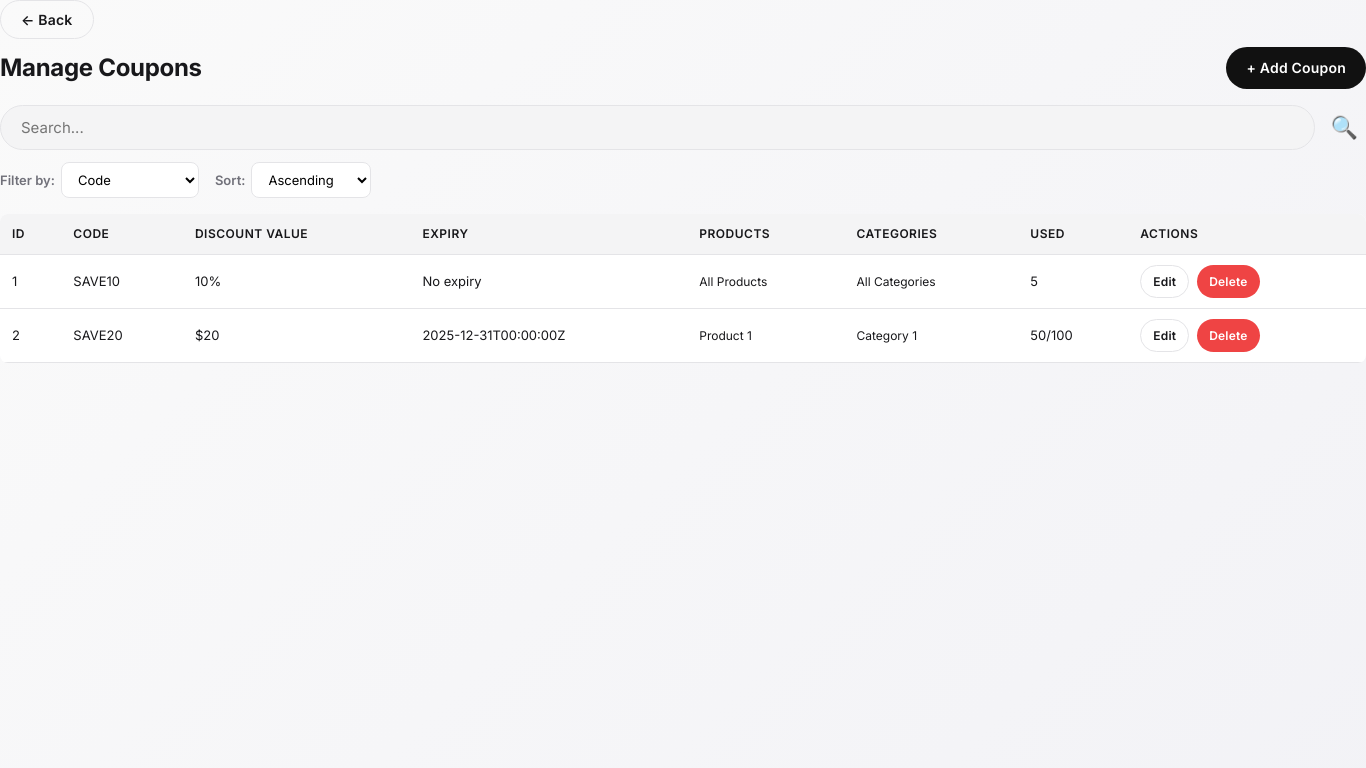
Test case: AdminCoupons › Delete › should disable button while deleting
Click the button "Delete" in the row of "SAVE10": (1228, 281) [1197,265,1260,298]
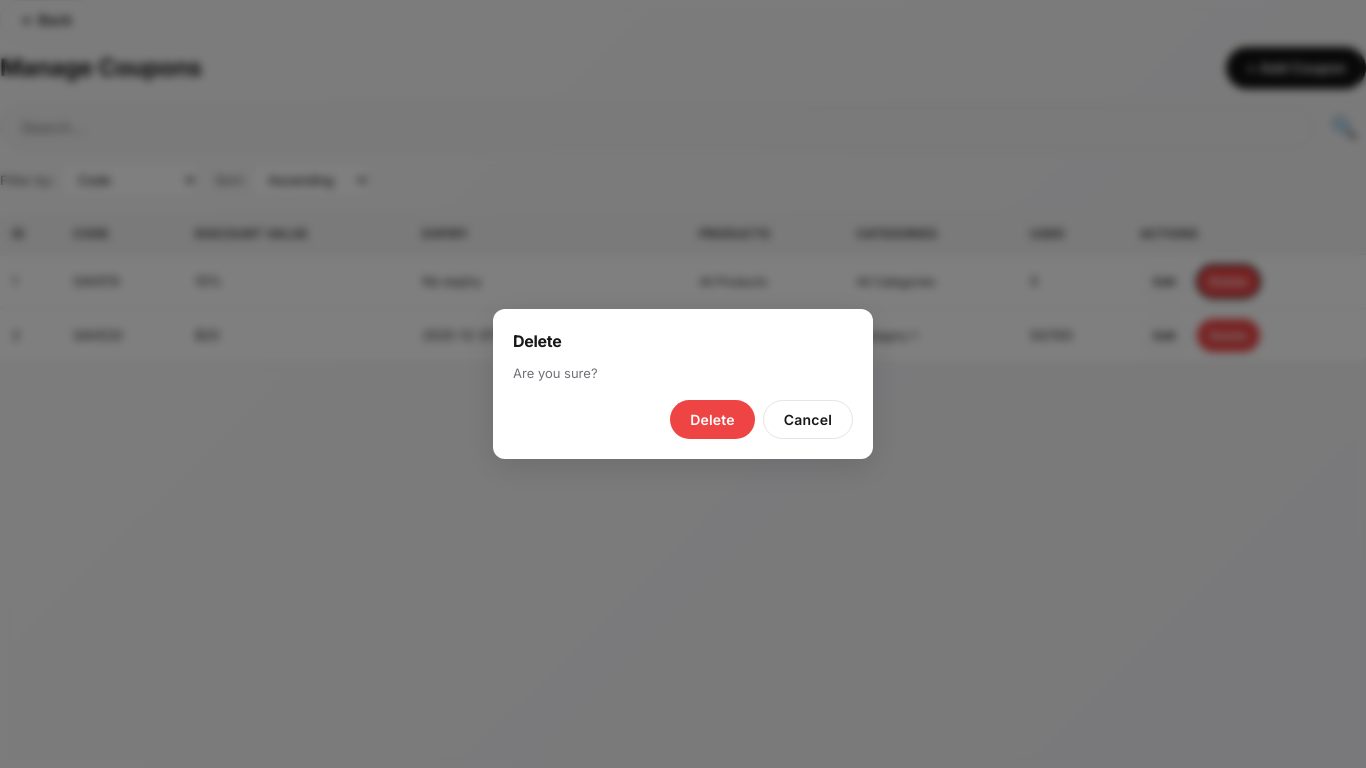
Click the button with class "btn-danger" showing "Delete": (712, 419) [670,400,755,439]
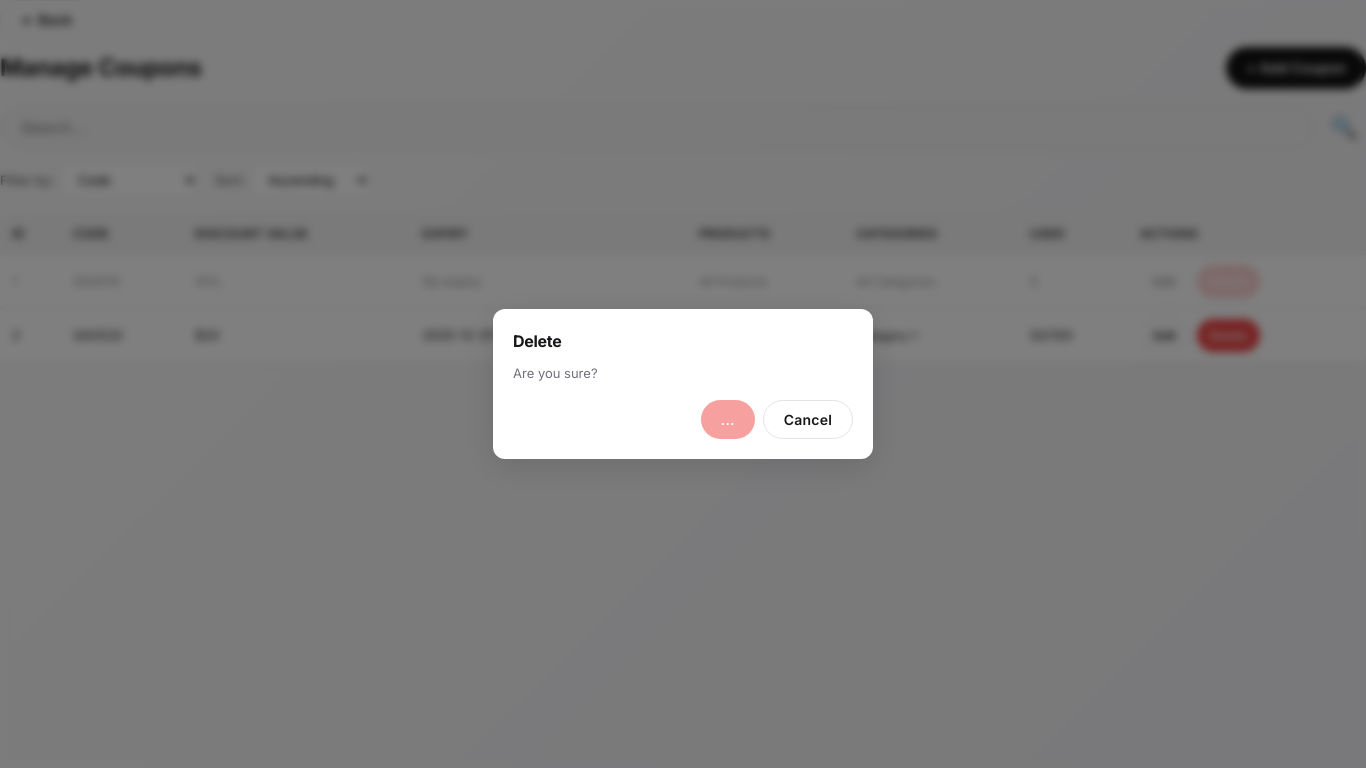
expect the button with class "btn-danger" showing "..." is disabled: met, box [701,400,755,439]
